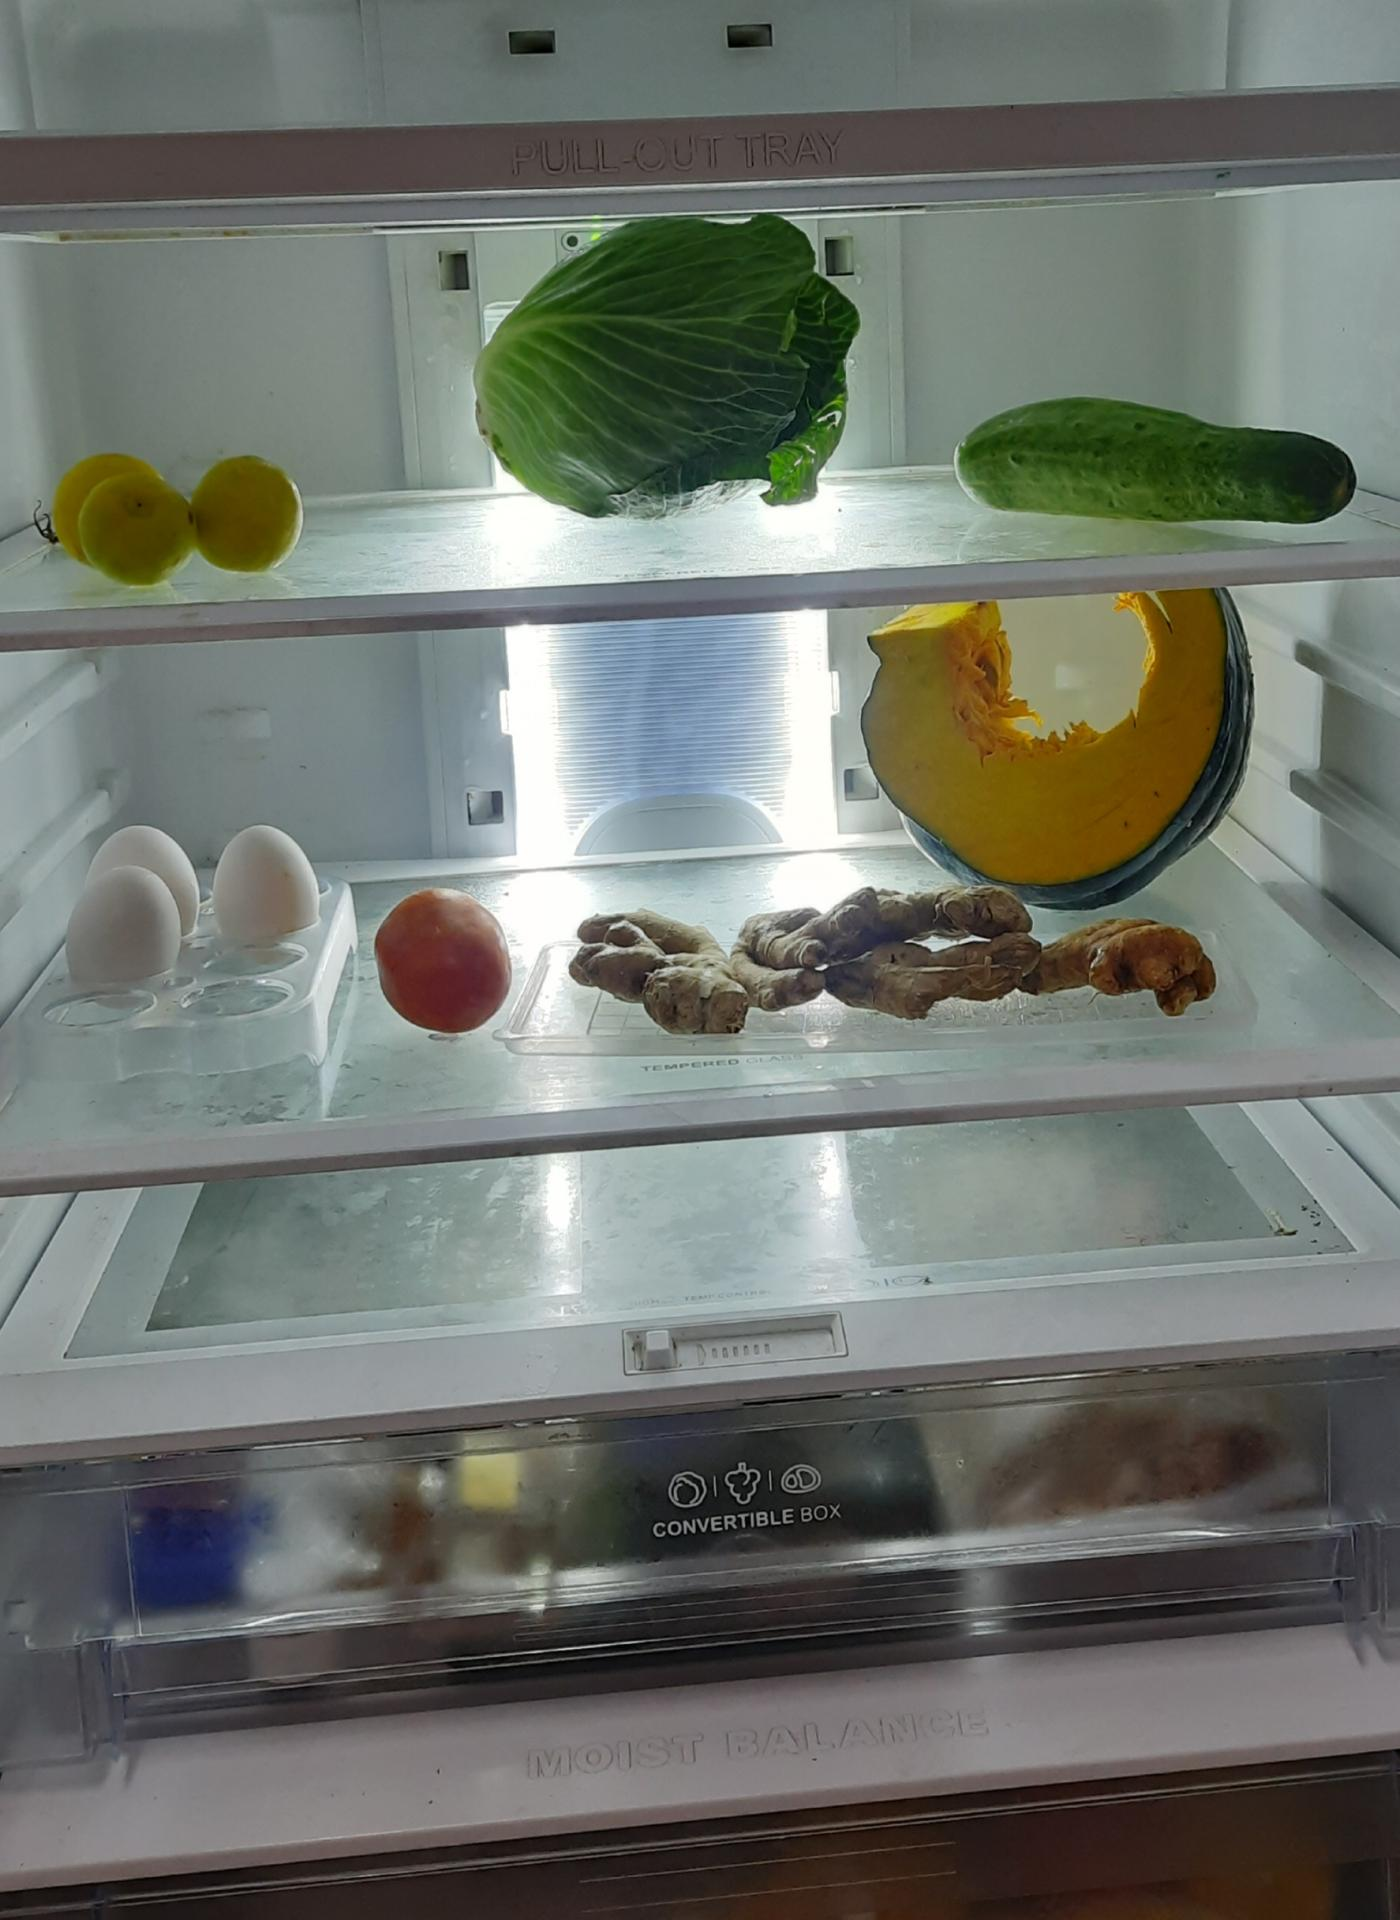cabbage: (473, 225, 860, 526)
cucumber: (954, 398, 1336, 528)
egg: (73, 820, 322, 981)
ginger: (564, 882, 1190, 1032)
lemon: (43, 446, 304, 577)
pumpkin: (848, 584, 1254, 896)
tomato: (373, 884, 516, 1035)
